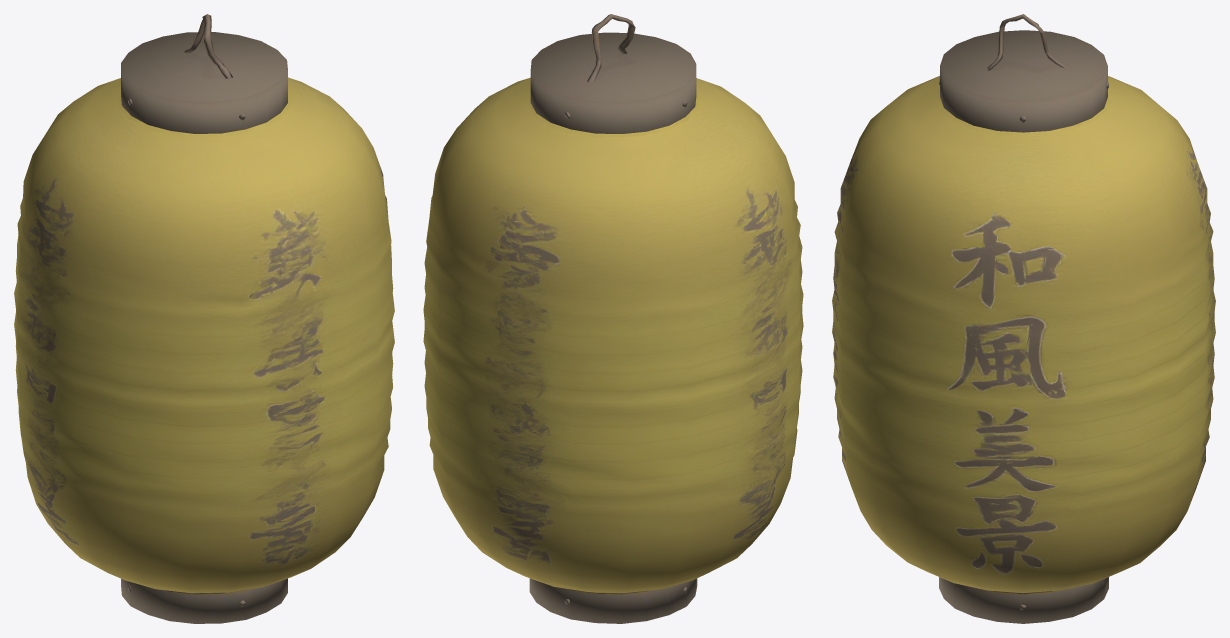
Rendered from latern2.glb.
3 renders of one model, left to right at view 1: azimuth 30°, elevation 25°; view 2: azimuth 150°, elevation 25°; view 3: azimuth 270°, elevation 25°, orthographic.
Parts seen in each view (by area): view 1: tripo_node_df116b73-fc9b-4b26-8850-01590f317815; view 2: tripo_node_df116b73-fc9b-4b26-8850-01590f317815; view 3: tripo_node_df116b73-fc9b-4b26-8850-01590f317815.
Part boxes in pixels (x1=…): tripo_node_df116b73-fc9b-4b26-8850-01590f317815: x1=14, y1=14, x2=394, y2=623; tripo_node_df116b73-fc9b-4b26-8850-01590f317815: x1=423, y1=14, x2=803, y2=623; tripo_node_df116b73-fc9b-4b26-8850-01590f317815: x1=832, y1=14, x2=1215, y2=623.
Bounding box in the file's own units: 0.6035 × 0.998 × 0.6035.
1 material, 1 textured.
